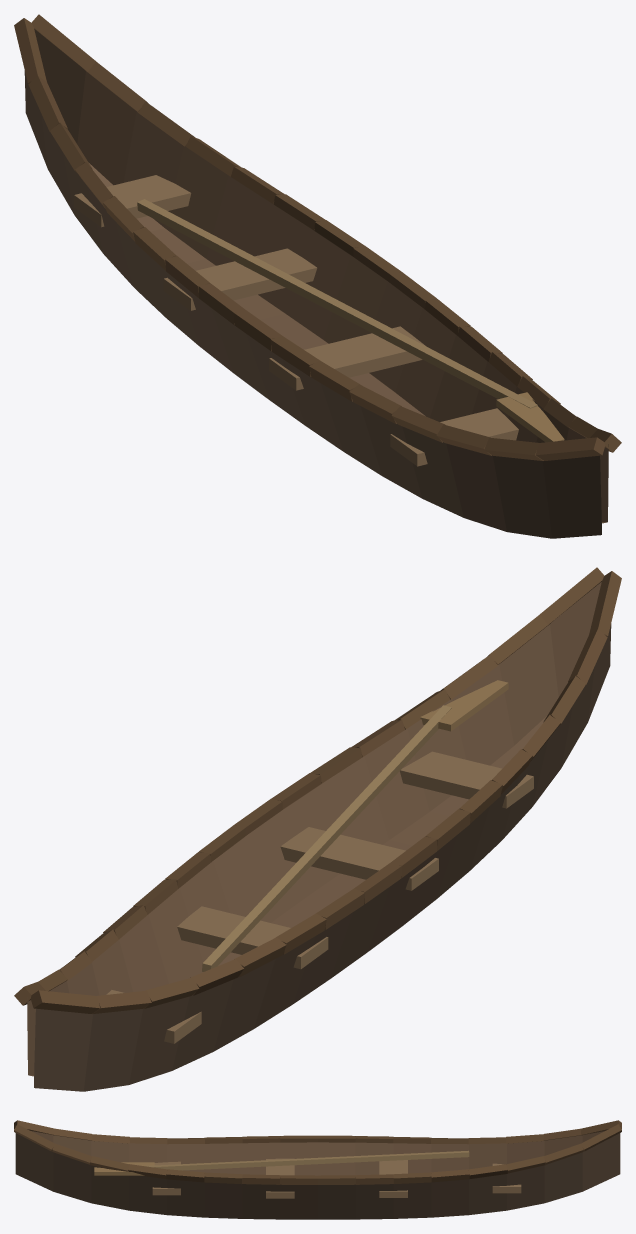
File: country_canoe.glb
3 views of the same model, one above another, from view 1: azimuth 30°, elevation 25°; view 2: azimuth 150°, elevation 25°; view 3: azimuth 270°, elevation 25° (orthographic). The views are drawn at different scales.
Visible parts, largest first — view 1: country_canoe; view 2: country_canoe; view 3: country_canoe.
Boxes of the visible parts, box(x1,y1,x2,y2) form: country_canoe: box(14, 14, 621, 538); country_canoe: box(14, 567, 621, 1091); country_canoe: box(14, 1120, 621, 1219).
Size of the model in its own units: 0.926 by 0.8529 by 5.53.
